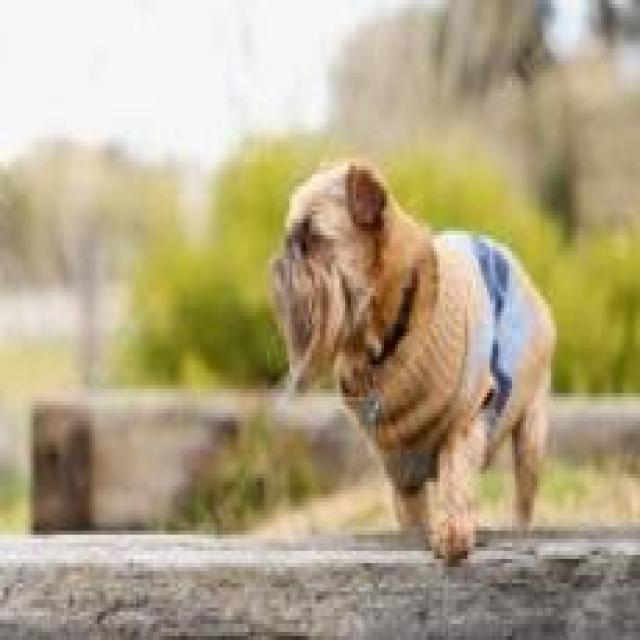Perro: (264, 142, 556, 563)
